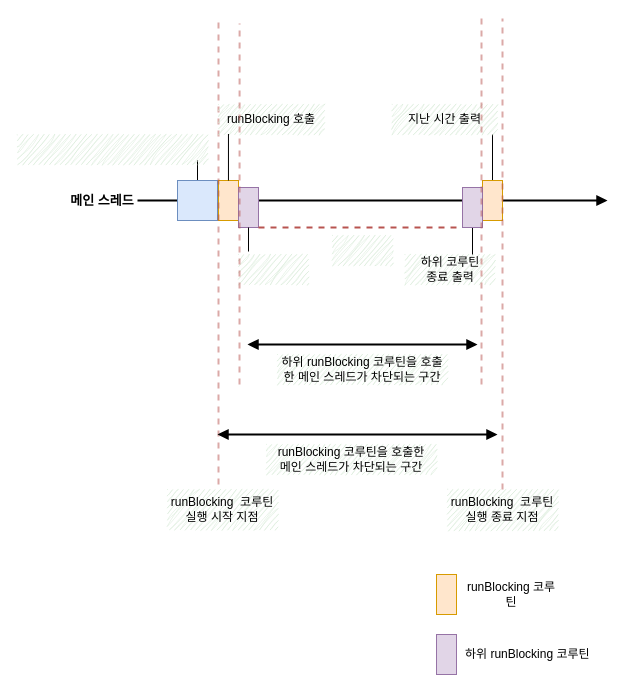
Some shapes in this 633 by 692 pixel diagram are drawn without their labels. The shapes that lost their labels are listed below. From the top down, each one's centre as x and y in pixels, then its label:
At pixel 112 149: "메인 스레드에서 runBlocking() 호출".
At pixel 273 269: "delay(1000) 호출".
At pixel 362 250: "1초간 대기".
